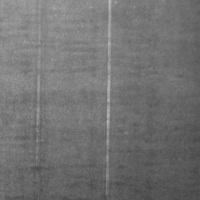scratches: (101, 0, 116, 196)
